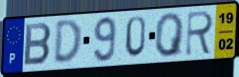0: (123, 15, 147, 60)
9: (92, 15, 118, 65)
B: (22, 22, 54, 67)
D: (52, 18, 84, 66)
Q: (154, 11, 186, 59)
R: (184, 9, 216, 58)
